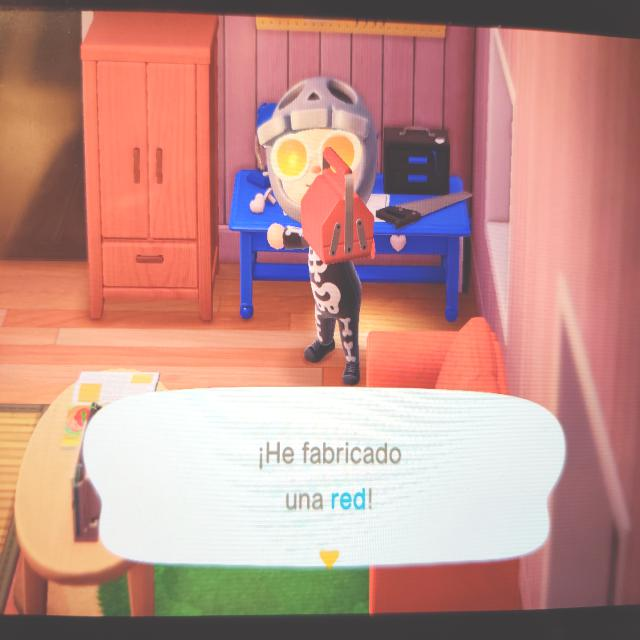text_bubble: (81, 383, 571, 573)
